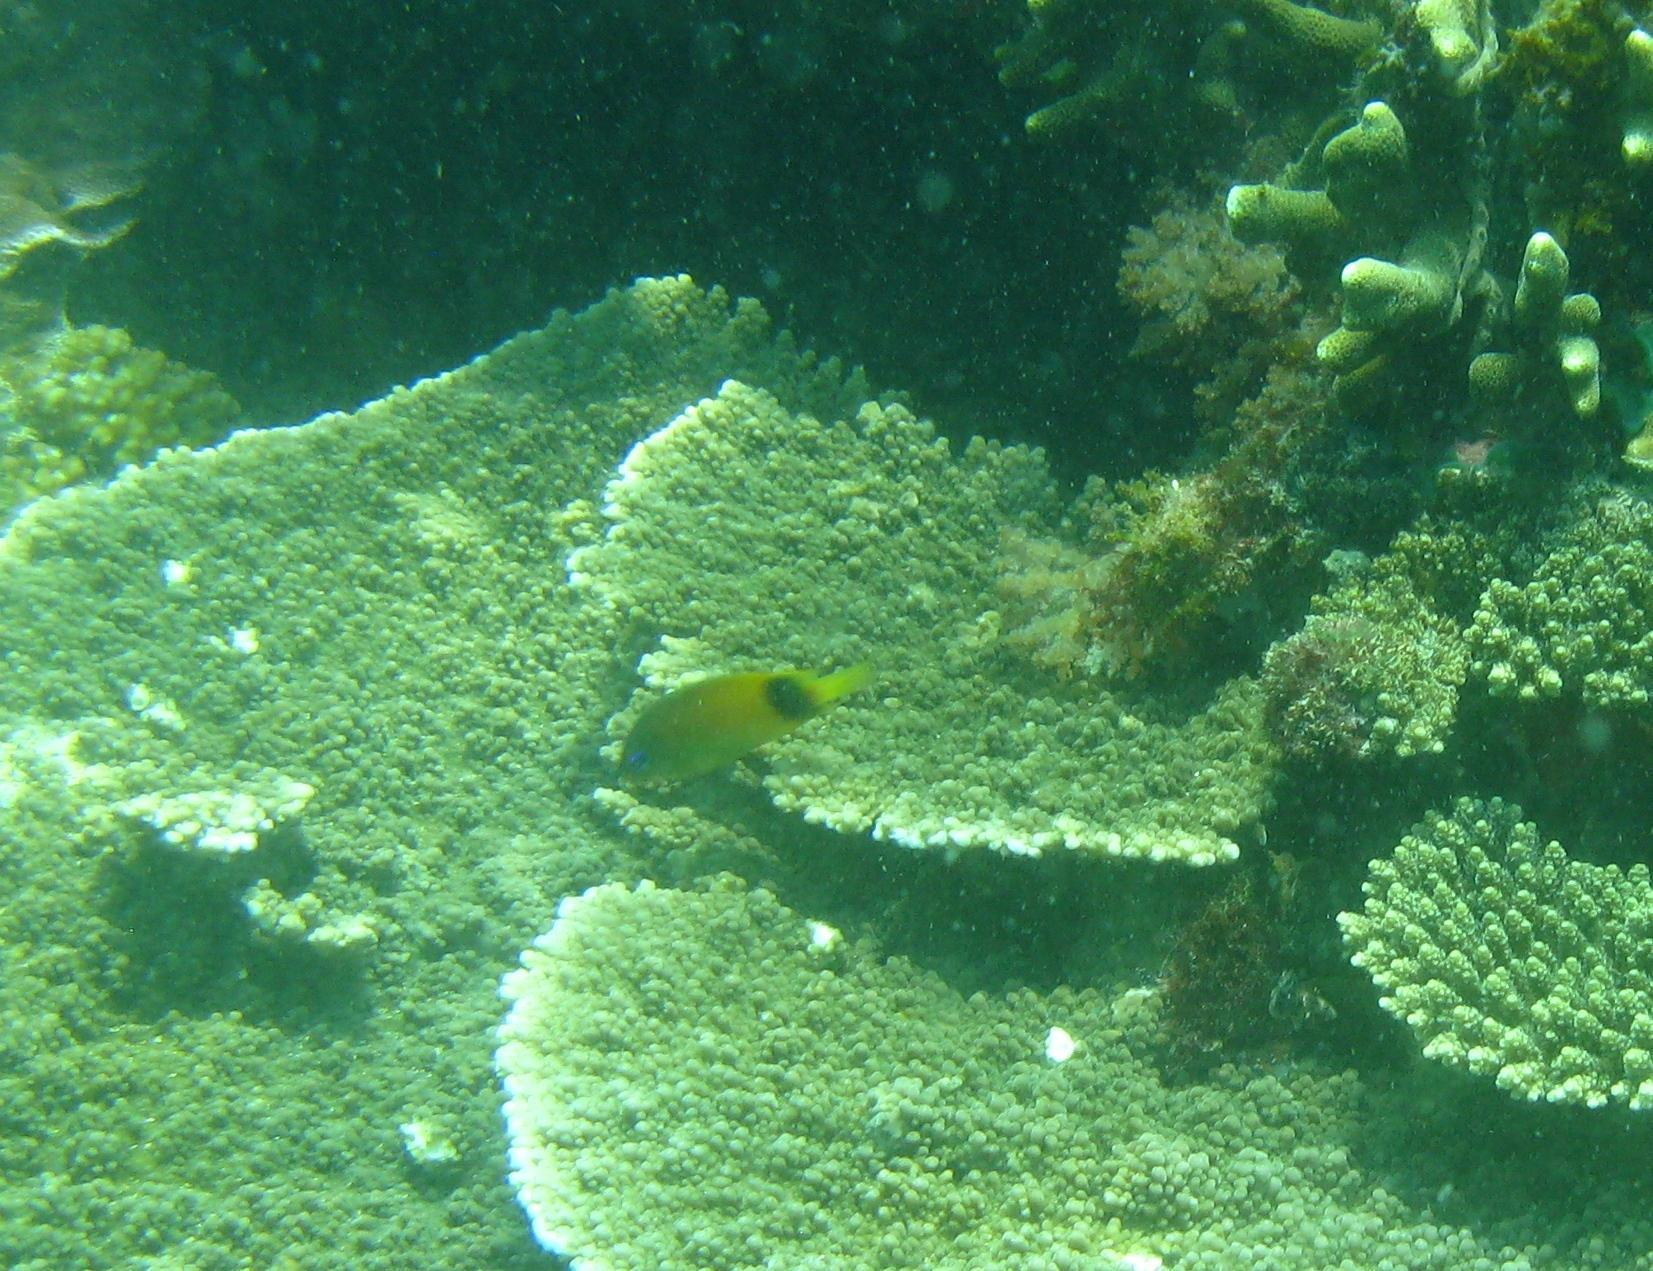Fish: (605, 656, 880, 797)
